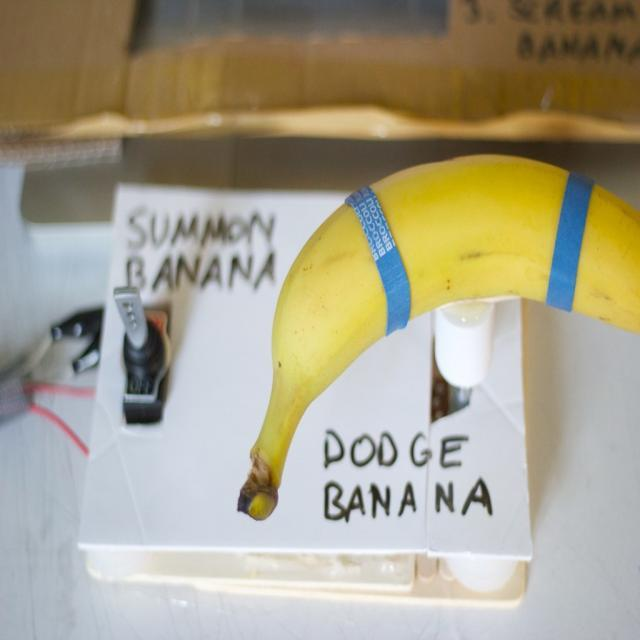Banana: (231, 156, 640, 493)
